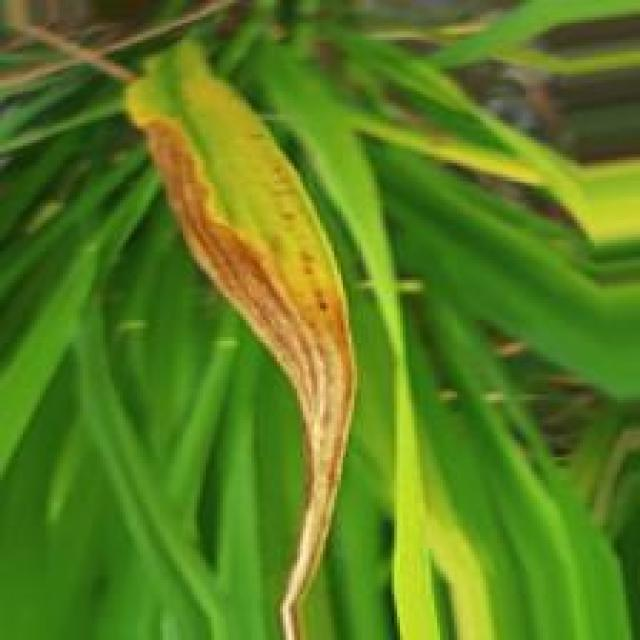Leaf_Scald: (132, 33, 355, 640)
